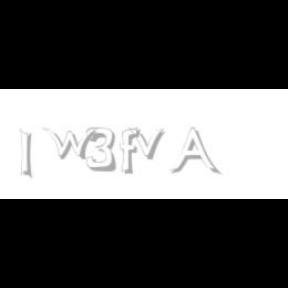3: (86, 128, 118, 172)
A: (170, 128, 218, 176)
I: (20, 128, 34, 180)
f: (120, 128, 144, 174)
v: (128, 128, 168, 160)
w: (42, 128, 102, 160)
